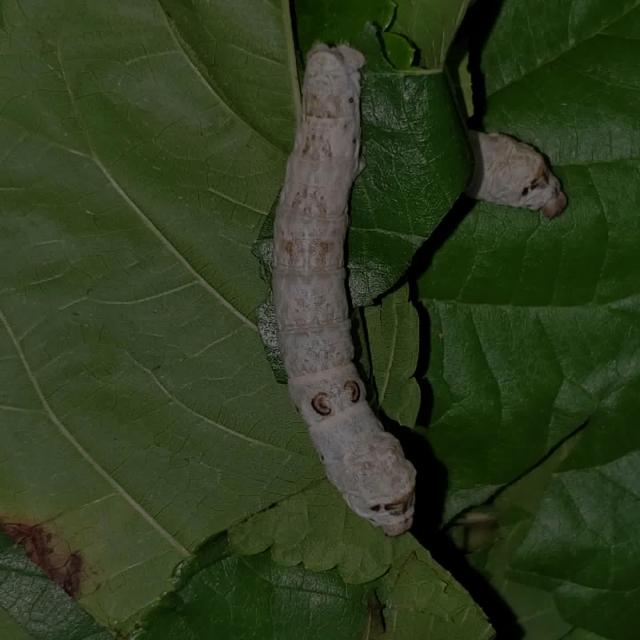Healthy: (243, 8, 458, 558)
